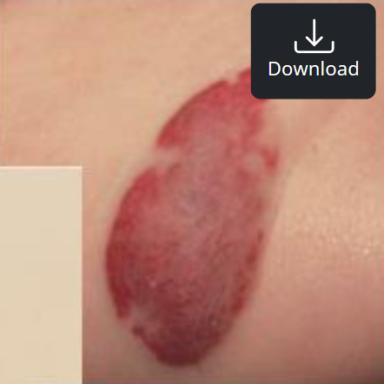Hemangiome: (106, 71, 277, 365)
